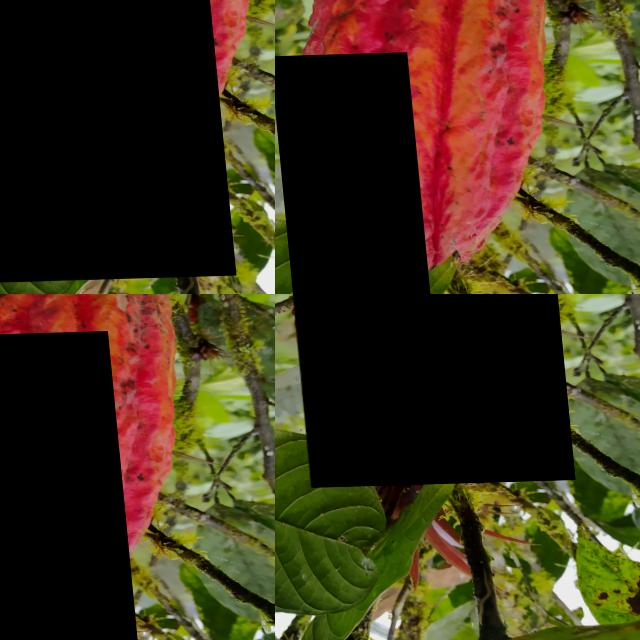Sana: (0, 0, 225, 284), (275, 294, 566, 488), (302, 0, 509, 227), (0, 333, 131, 640), (275, 54, 422, 294), (276, 257, 307, 294)
